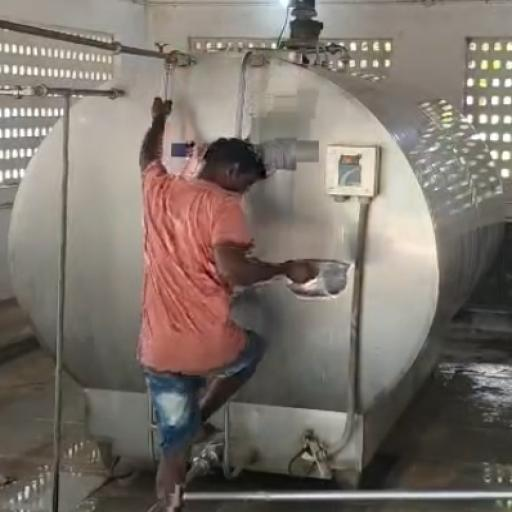silo: (8, 46, 506, 478)
vessel: (285, 257, 354, 299)
